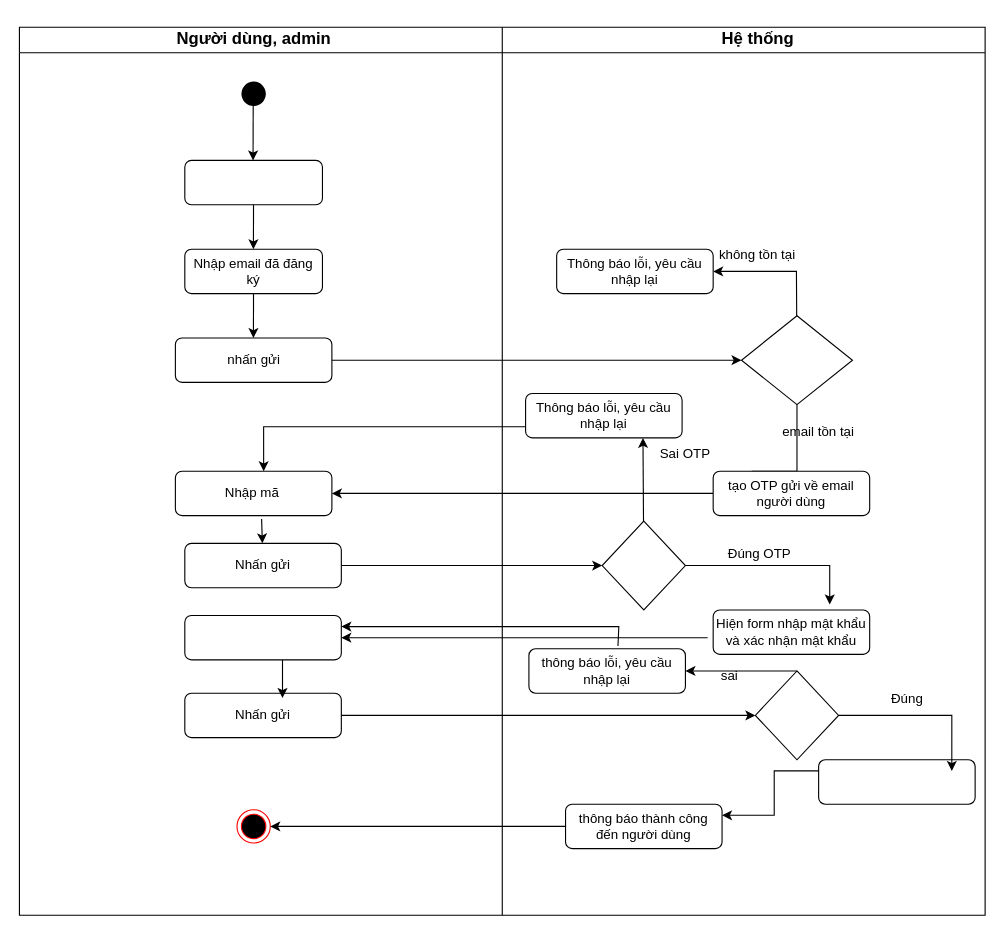
Image size: 1005x936. Some labels were removed from this diagram. The shapes that lost their labels are listed below. From the top down, each one's box as (x1, y1, x2, y2) in pixels, then its label:
(184, 159, 322, 205): Chọn chức năng quên mật khẩu
(740, 315, 852, 405): kiểm tra email
(601, 520, 685, 610): kiểm tra OTP
(184, 614, 341, 660): Nhập mật khẩu và xác nhận mật khẩu
(754, 670, 839, 760): kiểm tra mật khẩu
(818, 759, 975, 804): cập nhật thông tin vào CSDL
